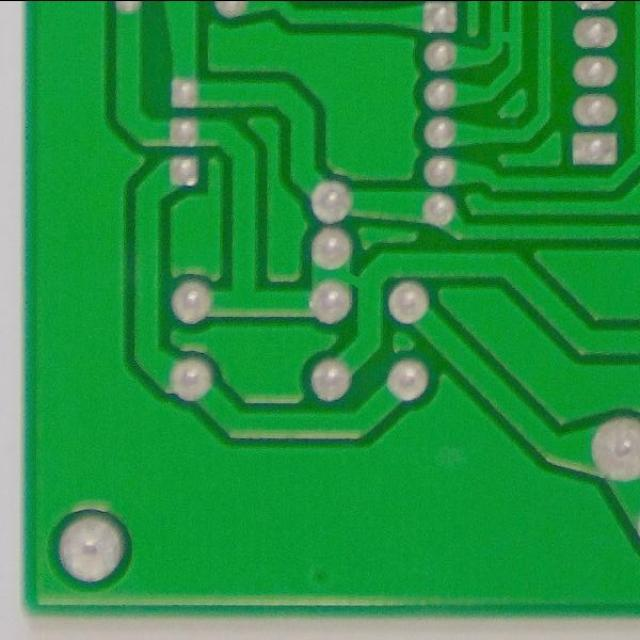short: (328, 257, 378, 304), (486, 15, 532, 62)
